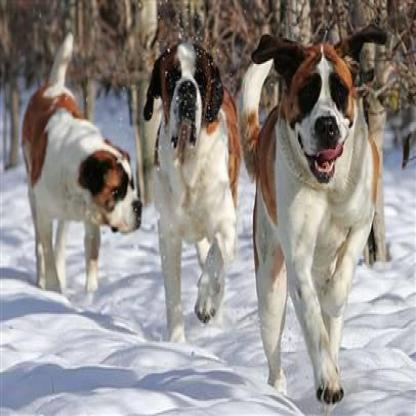Saint_Bernard: (233, 23, 392, 413), (20, 29, 144, 297), (143, 36, 243, 346)
